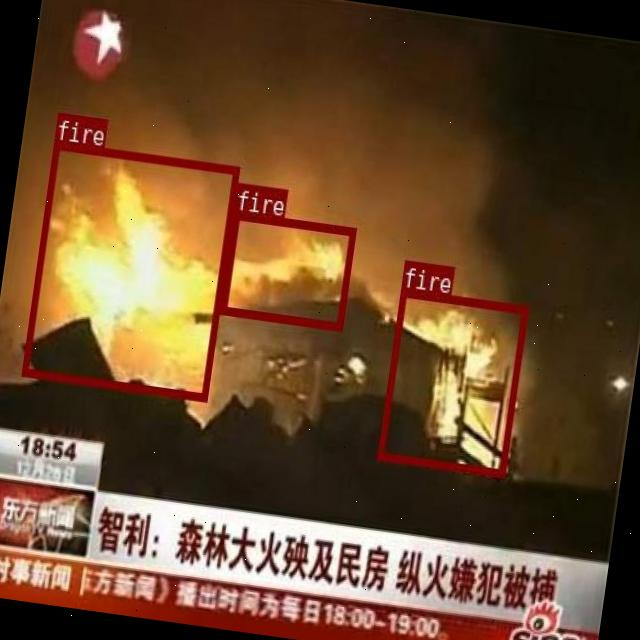fire: (20, 140, 238, 401), (376, 288, 527, 476), (219, 211, 355, 330)
